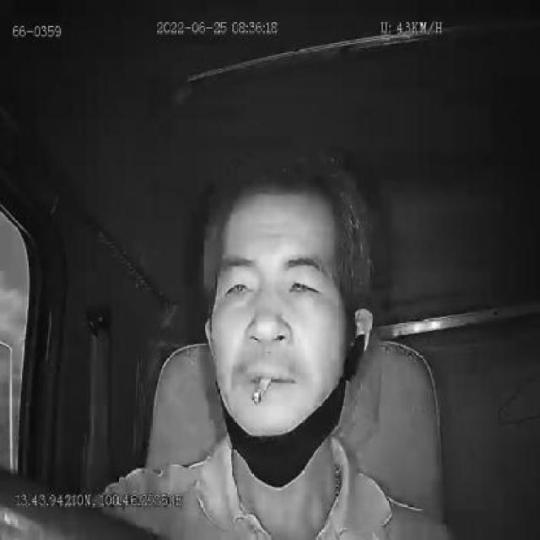smoking: (251, 373, 272, 403)
